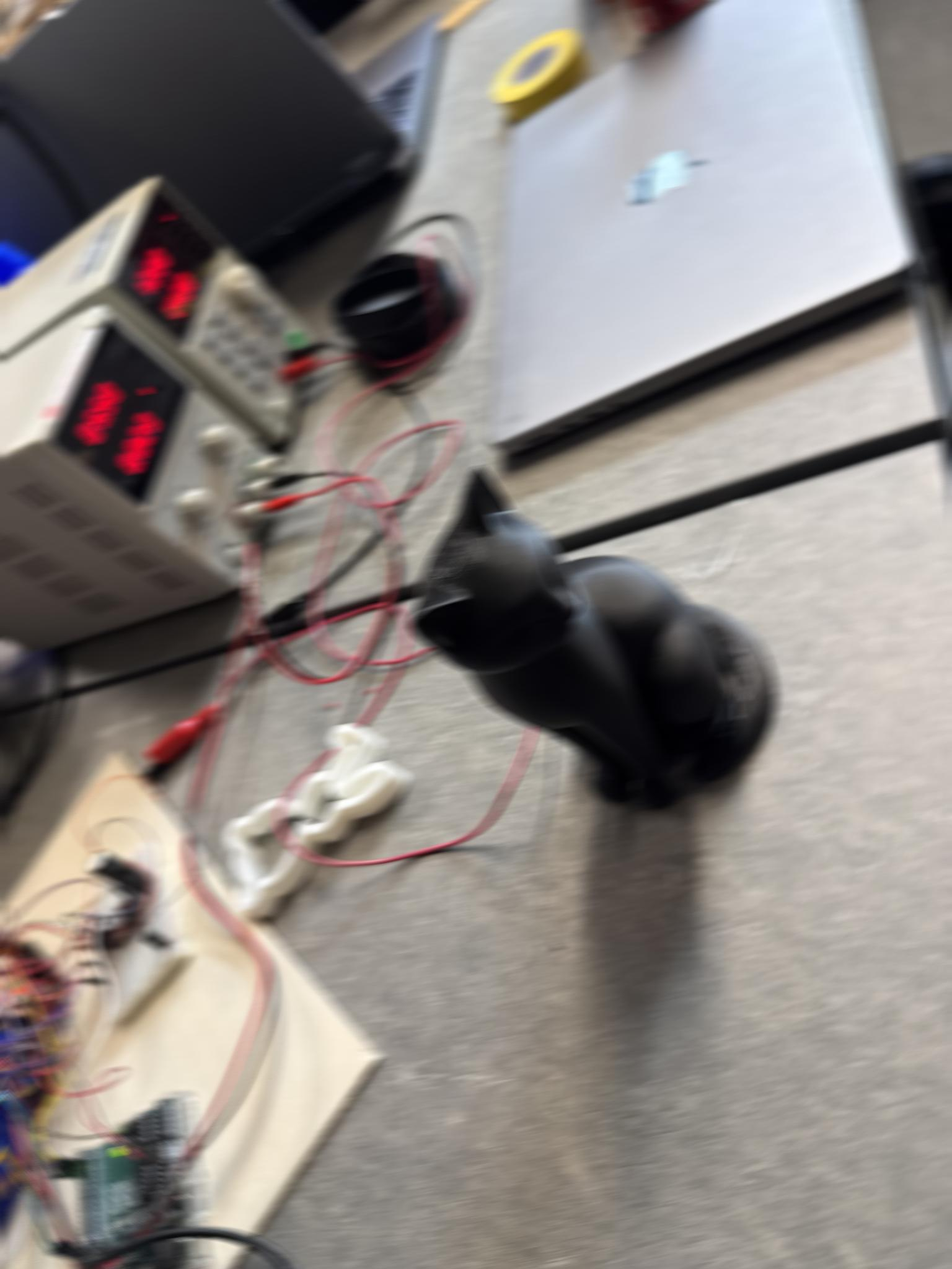cat: (407, 466, 777, 808)
